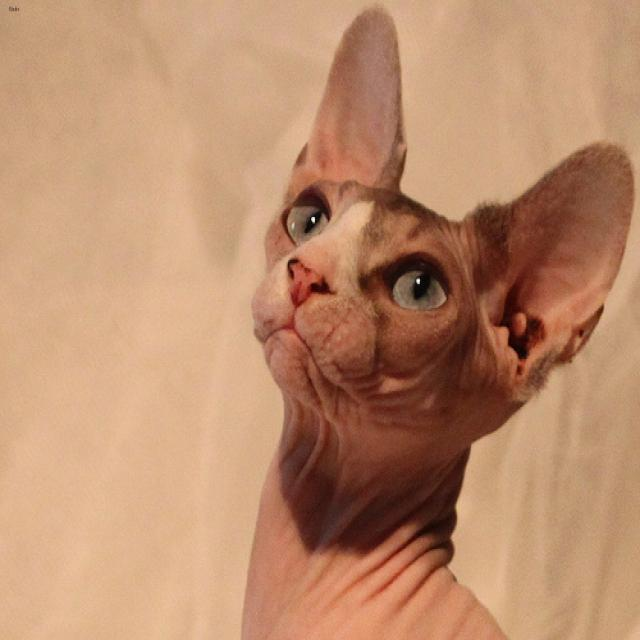Sphynx: (244, 0, 640, 447)
